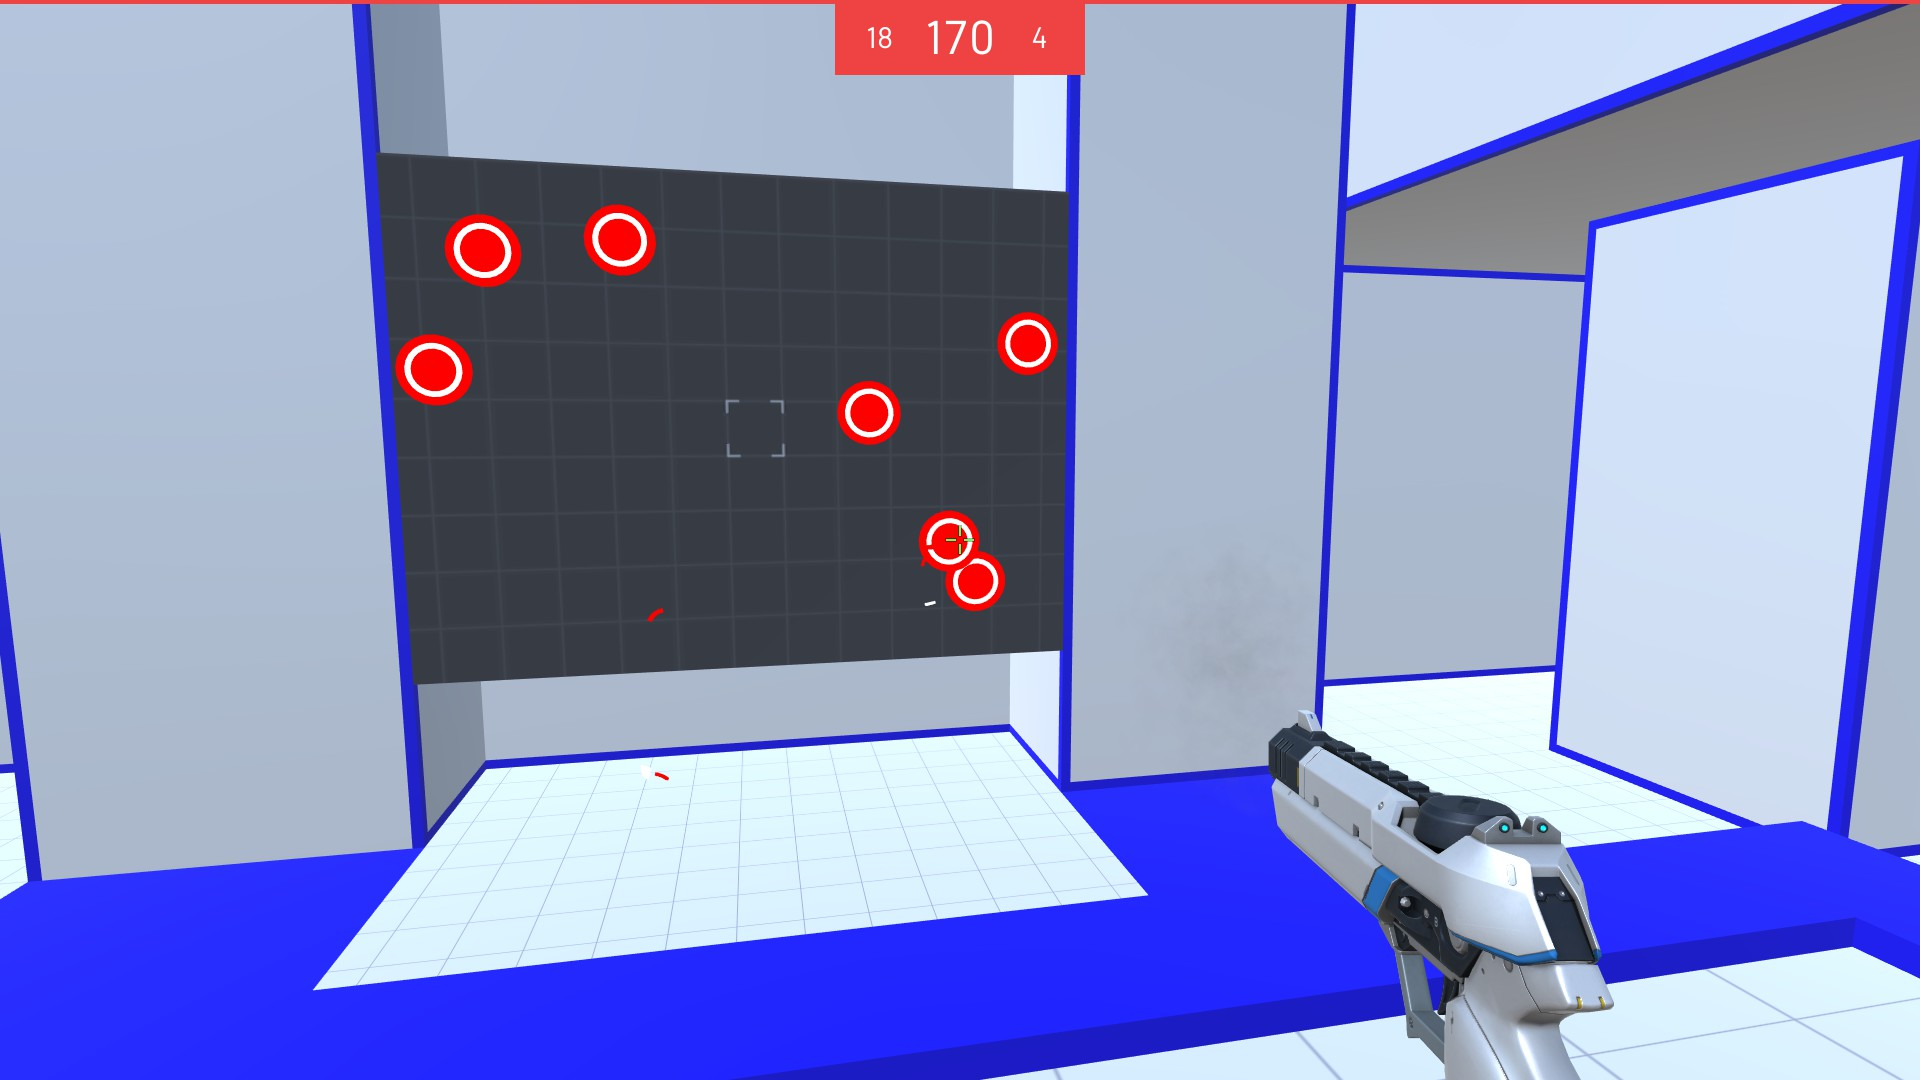target: (442, 208, 525, 294), (393, 330, 480, 405), (582, 200, 659, 284), (831, 375, 906, 448), (992, 309, 1059, 382), (944, 549, 1010, 615), (916, 505, 980, 574)
